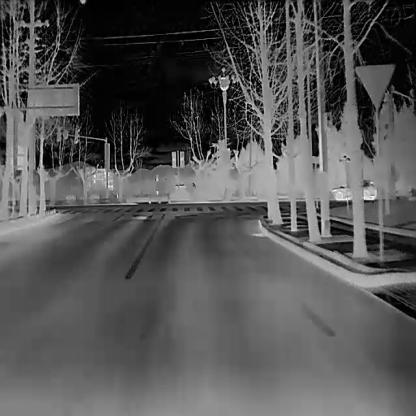car: (332, 178, 378, 202)
